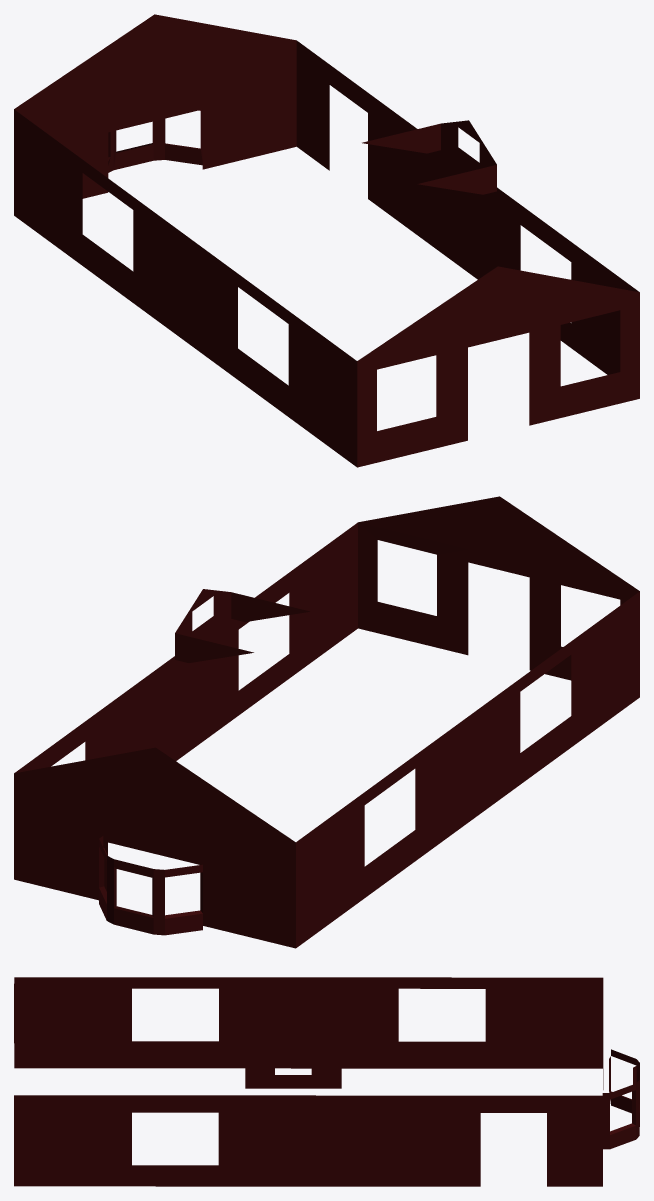
The model's file is casa1.obj.
3 renders of one model, top to bottom at view 1: azimuth 30°, elevation 25°; view 2: azimuth 150°, elevation 25°; view 3: azimuth 270°, elevation 25°, orthographic. The views are drawn at different scales.
Parts seen in each view (by area): view 1: Cube.020; view 2: Cube.020; view 3: Cube.020.
Part boxes in pixels (bbox=[...]): Cube.020: bbox=[14, 14, 639, 467]; Cube.020: bbox=[14, 496, 639, 948]; Cube.020: bbox=[14, 977, 639, 1186].
Bounding box in the file's own units: 10.81 × 6.09 × 24.17.
